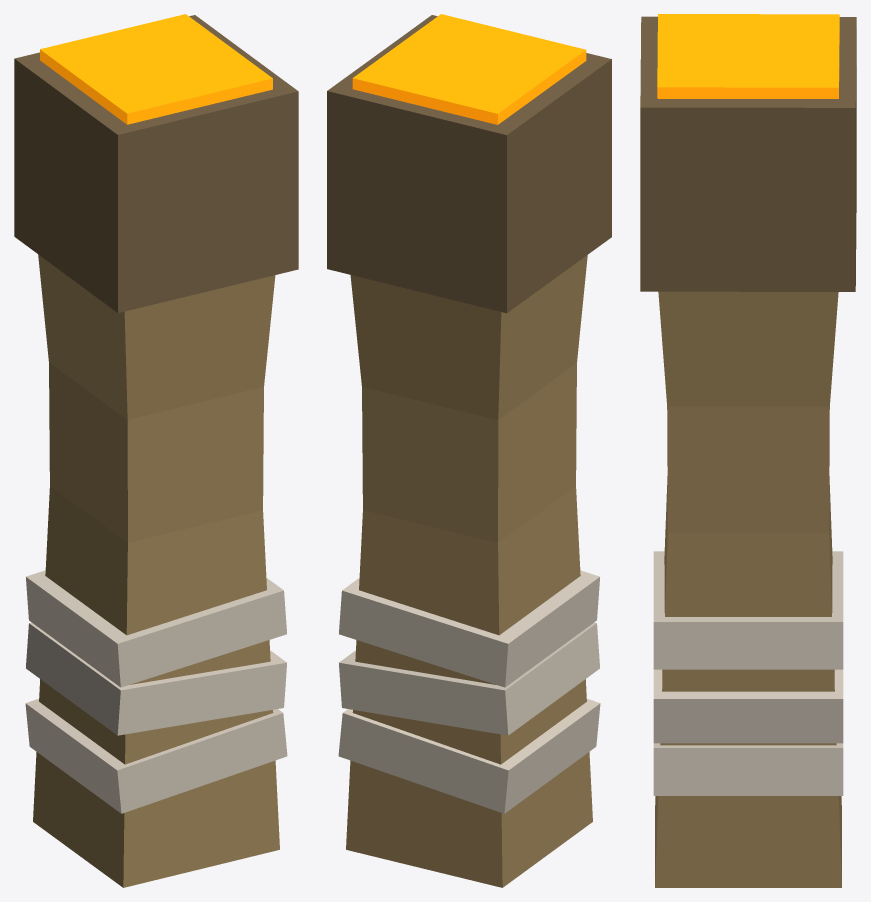
File: torch_1.fbx
3 renders of one model, left to right at view 1: azimuth 30°, elevation 25°; view 2: azimuth 150°, elevation 25°; view 3: azimuth 270°, elevation 25°, orthographic. The views are drawn at different scales.
Parts seen in each view (by area): view 1: tissu_1_1; view 2: tissu_1_1; view 3: tissu_1_1.
Part boxes in pixels (bbox=[...]): tissu_1_1: bbox=[14, 14, 298, 887]; tissu_1_1: bbox=[327, 14, 611, 887]; tissu_1_1: bbox=[640, 14, 856, 887].
Bounding box in the file's own units: 6.08 × 24.79 × 6.09.
